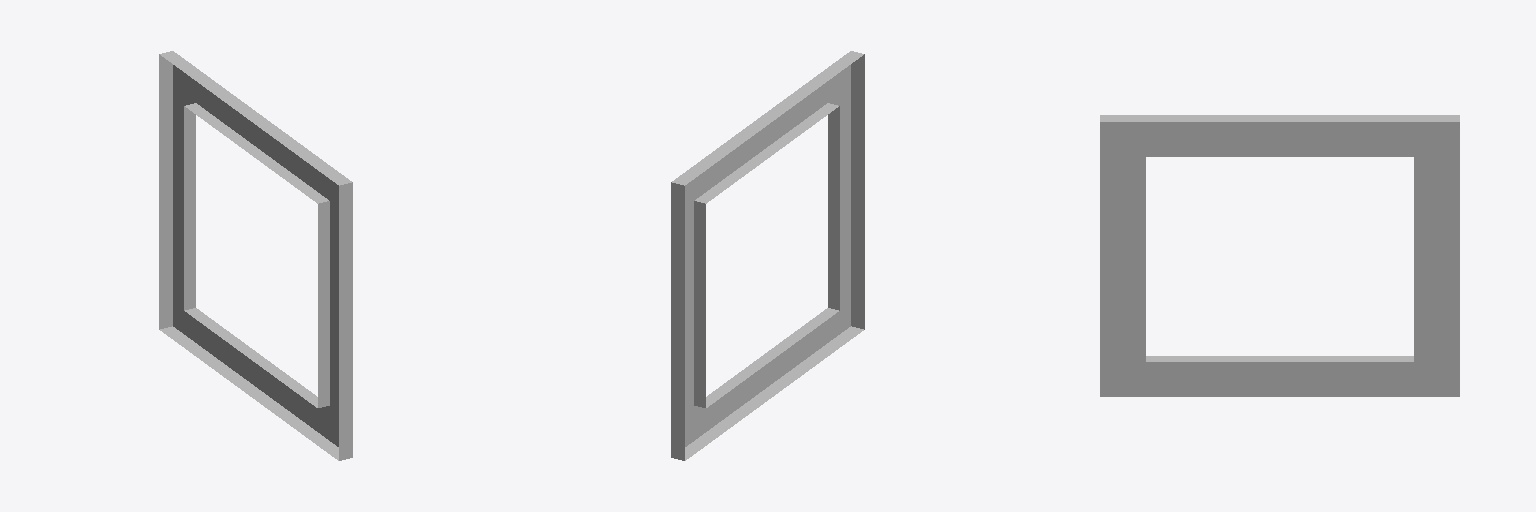
File: window.obj
The picture shows the model from 3 angles: view 1: azimuth 30°, elevation 25°; view 2: azimuth 150°, elevation 25°; view 3: azimuth 270°, elevation 25°; orthographic projection.
Visible parts, largest first — view 1: Cube; view 2: Cube; view 3: Cube.
Part boxes in pixels (bbox=[...]): Cube: bbox=[159, 51, 352, 460]; Cube: bbox=[671, 51, 864, 460]; Cube: bbox=[1100, 115, 1459, 396].
Bounding box in the file's own units: 0.2954 × 5.59 × 6.61.